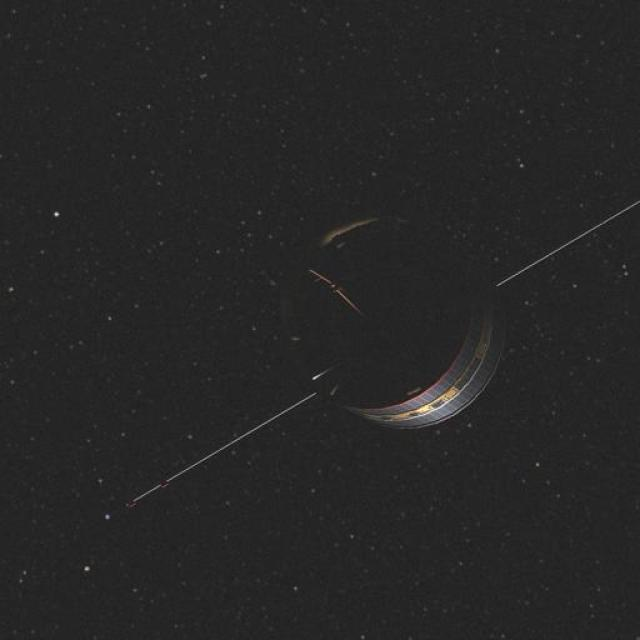double_start: (270, 202, 558, 457)
